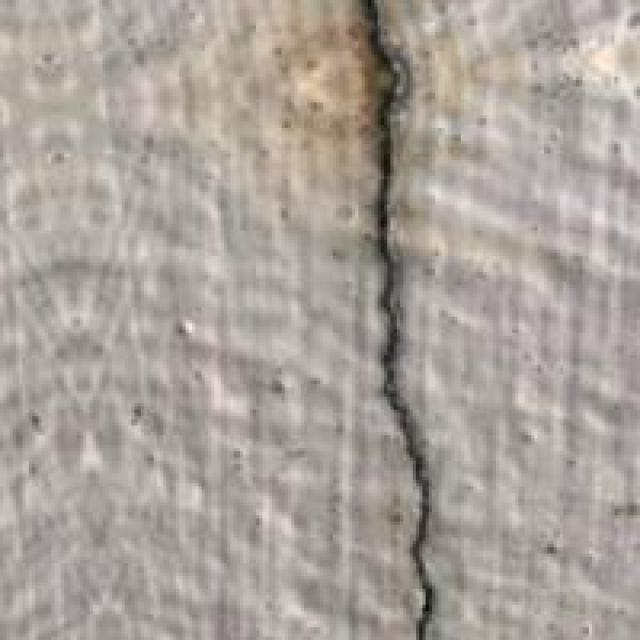Crack: (272, 3, 474, 640)
